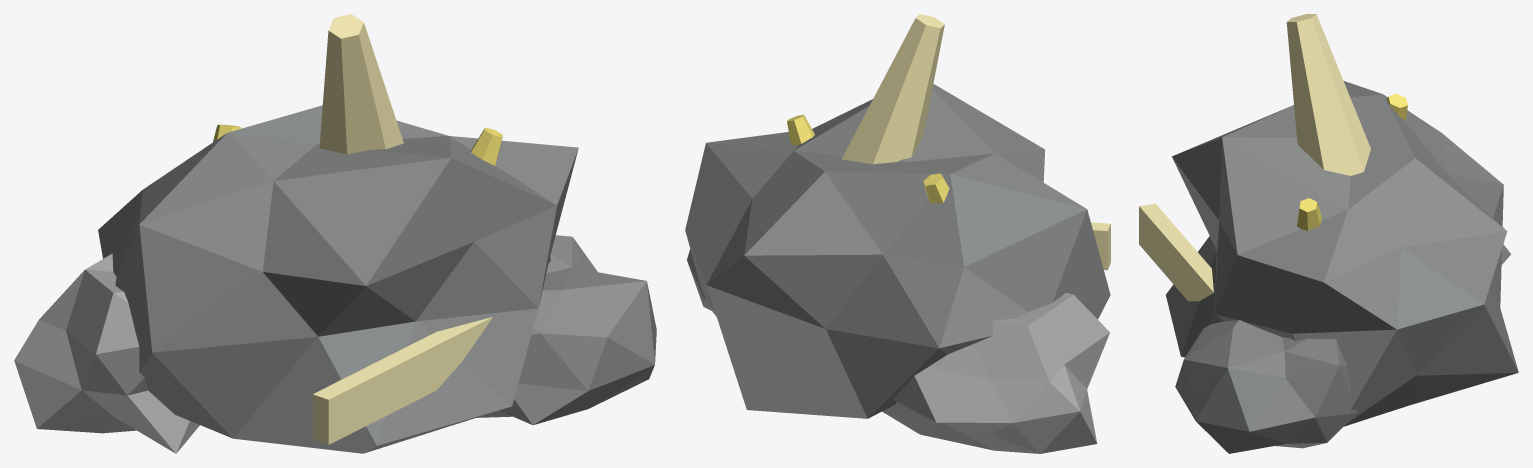
Rendered from t7_ore_full.glb.
3 views of the same model, side by side, from view 1: azimuth 30°, elevation 25°; view 2: azimuth 150°, elevation 25°; view 3: azimuth 270°, elevation 25° (orthographic). The views are drawn at different scales.
Parts seen in each view (by area): view 1: OreHostCenter, OreHostLeft, OreHostRight, FrontOreVein, CenterOreShard, RightOreShard; view 2: OreHostCenter, OreHostLeft, CenterOreShard, FrontOreVein, RightOreShard, LeftOreShard; view 3: OreHostCenter, OreHostRight, CenterOreShard, FrontOreVein, RightOreShard.
Part boxes in pixels (box(x1,y1,x2,y2)): OreHostCenter: box(98, 105, 578, 453); OreHostLeft: box(14, 253, 199, 453); OreHostRight: box(476, 235, 656, 424); FrontOreVein: box(312, 317, 492, 444); CenterOreShard: box(319, 14, 403, 154); RightOreShard: box(471, 127, 502, 165); OreHostCenter: box(685, 84, 1110, 418); OreHostLeft: box(882, 292, 1109, 453); CenterOreShard: box(841, 14, 944, 164); FrontOreVein: box(1091, 222, 1110, 270); RightOreShard: box(787, 114, 814, 145); LeftOreShard: box(923, 173, 949, 203); OreHostCenter: box(1166, 81, 1518, 426); OreHostRight: box(1175, 320, 1356, 453); CenterOreShard: box(1286, 14, 1370, 175); FrontOreVein: box(1139, 203, 1213, 301); RightOreShard: box(1297, 198, 1321, 230).
Bounding box in the file's own units: 1.48 × 1.1 × 1.08.
